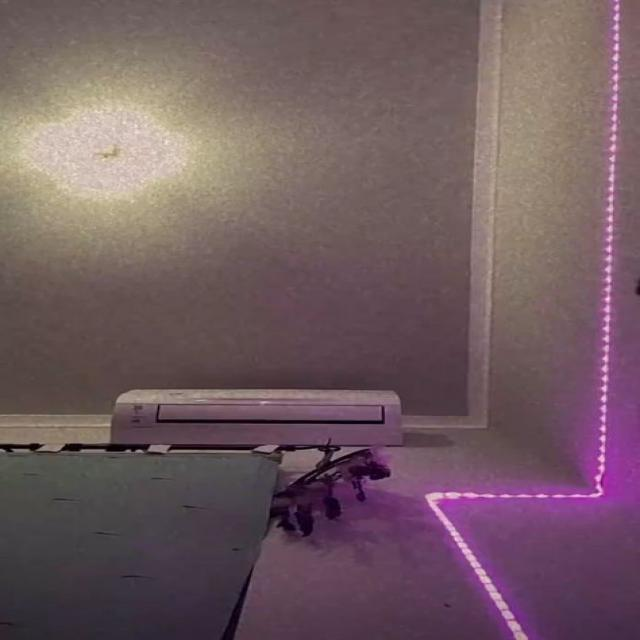AC: (107, 386, 404, 447)
